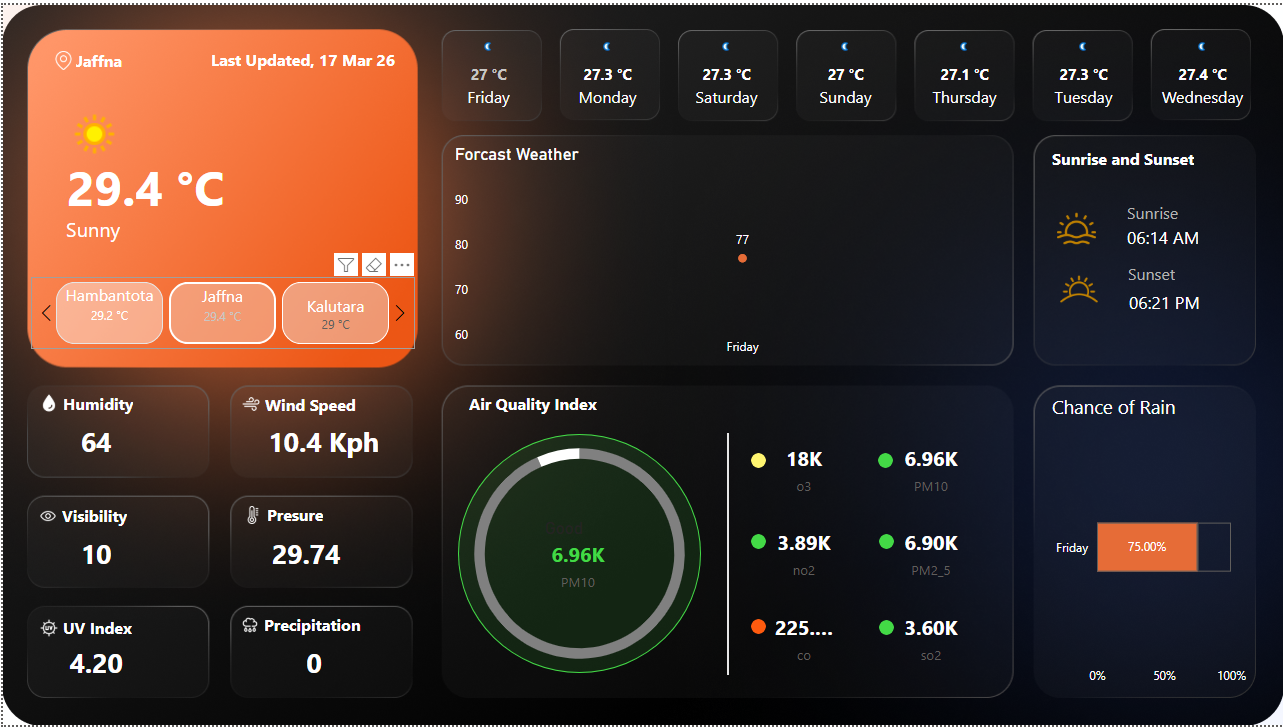

Layout of this report page (visuals, bound fields, positions):
{"tool":"powerbi","page":{"name":"Page 1","canvas":[1280,720],"ordinal":0},"visuals":[{"type":"image","box":[0,0,1280,720.1],"z":0},{"type":"shape","box":[455,429,243,239],"z":1000},{"type":"advancedSlicerVisual","fields":{"Values":["Current.location.name"],"Label":["_Measures.Curr_Temp"]},"box":[27.9,271.8,384.5,72],"z":2000},{"type":"shape","box":[64.4,132.2,193.3,97.8],"z":3000},{"type":"shape","box":[63.3,206.7,187.8,33.3],"z":4000},{"type":"shape","box":[73.3,38.9,144.4,33.3],"z":5000},{"type":"shape","box":[204.4,36.7,187.8,34.4],"z":6000},{"type":"image","box":[50.7,45,19.3,21.4],"z":7000},{"type":"cardVisual","fields":{"Data":["Min(Current.current.condition.icon)"]},"box":[0,5.6,183.3,175.6],"z":8000},{"type":"image","box":[36.9,388.1,18.1,19.4],"z":9000},{"type":"shape","box":[60,380.6,136.2,34.4],"z":10000},{"type":"image","box":[238.7,389,18.1,19.4],"z":11000},{"type":"shape","box":[261.8,381.5,136.2,34.4],"z":12000},{"type":"image","box":[36,500.9,18.1,19.4],"z":13000},{"type":"shape","box":[59.1,493.4,136.2,34.4],"z":14000},{"type":"image","box":[36.9,612.7,18.1,19.4],"z":15000},{"type":"shape","box":[60,605.2,136.2,34.4],"z":16000},{"type":"image","box":[240.5,499.9,18.1,19.4],"z":17000},{"type":"shape","box":[263.6,492.4,136.2,34.4],"z":18000},{"type":"image","box":[237.8,609.9,18.1,19.4],"z":19000},{"type":"shape","box":[260.9,602.4,136.2,34.4],"z":20000},{"type":"card","fields":{"Values":["Sum(Current.current.humidity)"]},"box":[37.5,408.8,110,57.5],"z":21000},{"type":"card","fields":{"Values":["_Measures.Wind_Speed"]},"box":[247.5,408.8,145,57.5],"z":22000},{"type":"card","fields":{"Values":["Sum(Current.current.vis_km)"]},"box":[37.5,521.2,110,57.5],"z":23000},{"type":"card","fields":{"Values":["Sum(Current.current.pressure_in)"]},"box":[247.5,521.2,110,57.5],"z":24000},{"type":"card","fields":{"Values":["Sum(Current.current.uv)"]},"box":[37.5,630,110,57.5],"z":25000},{"type":"card","fields":{"Values":["Sum(Current.current.precip_in)"]},"box":[256.2,630,110,57.5],"z":26000},{"type":"advancedSlicerVisual","fields":{"Values":["ForcastDay.DayName"]},"box":[405,21.7,875,98.3],"z":27000},{"type":"lineChart","title":"Forcast Weather","fields":{"Category":["ForcastDay.DayName"],"Y":["Sum(ForcastDay.forecast.forecastday.day.avghumidity)"]},"box":[447.1,138.6,561.4,221.4],"z":28000},{"type":"shape","box":[1048.6,135.7,198.6,34.3],"z":29000},{"type":"shape","box":[1124.2,218.3,142.5,25.8],"z":30000},{"type":"shape","box":[1124.2,187.5,155,38.3],"z":31000},{"type":"image","box":[1054.4,203.3,38.9,40],"z":32000},{"type":"image","box":[1051.1,257.8,50,52.2],"z":33000},{"type":"shape","box":[1125.6,283.3,142.2,26.7],"z":34000},{"type":"shape","box":[1125,248.6,155,38.3],"z":35000},{"type":"hundredPercentStackedBarChart","title":"Chance of Rain","fields":{"Y":["Sum(ForcastDay.forecast.forecastday.day.daily_chance_of_rain)","Current.LeftValueRain"],"Category":["ForcastDay.DayName"]},"box":[1043.8,388.8,203.8,300],"z":36000},{"type":"shape","box":[466.2,381.2,136.2,35],"z":37000},{"type":"card","fields":{"Values":["Sum(ColomboDistrict.current.air_quality.pm10)"]},"box":[890,426.2,76.2,73.8],"z":38000},{"type":"card","fields":{"Values":["Sum(ColomboDistrict.current.air_quality.pm2_5)"]},"box":[890,510,76.2,73.8],"z":39000},{"type":"card","fields":{"Values":["Sum(ColomboDistrict.current.air_quality.so2)"]},"box":[890,595,76.2,73.8],"z":40000},{"type":"card","fields":{"Values":["Sum(ColomboDistrict.current.air_quality.o3)"]},"box":[762.5,426.2,76.2,73.8],"z":41000},{"type":"card","fields":{"Values":["Sum(ColomboDistrict.current.air_quality.no2)"]},"box":[762.5,510,76.2,73.8],"z":42000},{"type":"card","fields":{"Values":["Sum(ColomboDistrict.current.air_quality.co)"]},"box":[762.5,595,76.2,73.8],"z":43000},{"type":"shape","box":[747.5,447.5,15,15],"z":44000},{"type":"shape","box":[875,447.5,15,15],"z":45000},{"type":"shape","box":[748.3,529.2,15,15],"z":46000},{"type":"shape","box":[875.8,529.2,15,15],"z":47000},{"type":"shape","box":[875.8,615,15,15],"z":48000},{"type":"shape","box":[747.5,614.2,15,15],"z":49000},{"type":"shape","box":[575,428.3,300,241.7],"z":50000},{"type":"card","fields":{"Values":["Sum(ColomboDistrict.current.air_quality.pm10)"]},"box":[536.7,513.3,76.7,73.3],"z":51000},{"type":"donutChart","fields":{"Y":["Sum(ColomboDistrict.current.air_quality.pm10)","_Measures.Left_PM10"]},"box":[440,411,273,275],"z":52000}]}

Visuals, with their boxes in screenshot pixels (x1, y1, x2, y2), scaled from the page's 1280x720 canvas onto the 1283x727 screenshot:
image: <bbox>0, 0, 1282, 726</bbox>
shape: <bbox>456, 433, 700, 674</bbox>
advancedSlicerVisual - Current.location.name x _Measures.Curr_Temp: <bbox>28, 274, 413, 347</bbox>
shape: <bbox>65, 133, 258, 232</bbox>
shape: <bbox>63, 209, 252, 242</bbox>
shape: <bbox>73, 39, 218, 73</bbox>
shape: <bbox>205, 37, 393, 72</bbox>
image: <bbox>51, 45, 70, 67</bbox>
cardVisual - Min(Current.current.condition.icon): <bbox>0, 6, 184, 183</bbox>
image: <bbox>37, 392, 55, 411</bbox>
shape: <bbox>60, 384, 197, 419</bbox>
image: <bbox>239, 393, 257, 412</bbox>
shape: <bbox>262, 385, 399, 420</bbox>
image: <bbox>36, 506, 54, 525</bbox>
shape: <bbox>59, 498, 196, 533</bbox>
image: <bbox>37, 619, 55, 638</bbox>
shape: <bbox>60, 611, 197, 646</bbox>
image: <bbox>241, 505, 259, 524</bbox>
shape: <bbox>264, 497, 401, 532</bbox>
image: <bbox>238, 616, 256, 635</bbox>
shape: <bbox>262, 608, 398, 643</bbox>
card - Sum(Current.current.humidity): <bbox>38, 413, 148, 471</bbox>
card - _Measures.Wind_Speed: <bbox>248, 413, 393, 471</bbox>
card - Sum(Current.current.vis_km): <bbox>38, 526, 148, 584</bbox>
card - Sum(Current.current.pressure_in): <bbox>248, 526, 358, 584</bbox>
card - Sum(Current.current.uv): <bbox>38, 636, 148, 694</bbox>
card - Sum(Current.current.precip_in): <bbox>257, 636, 367, 694</bbox>
advancedSlicerVisual - ForcastDay.DayName: <bbox>406, 22, 1282, 121</bbox>
"Forcast Weather" lineChart: <bbox>448, 140, 1011, 364</bbox>
shape: <bbox>1051, 137, 1250, 172</bbox>
shape: <bbox>1127, 220, 1270, 246</bbox>
shape: <bbox>1127, 189, 1282, 228</bbox>
image: <bbox>1057, 205, 1096, 246</bbox>
image: <bbox>1054, 260, 1104, 313</bbox>
shape: <bbox>1128, 286, 1271, 313</bbox>
shape: <bbox>1128, 251, 1282, 290</bbox>
"Chance of Rain" hundredPercentStackedBarChart: <bbox>1046, 393, 1251, 695</bbox>
shape: <bbox>467, 385, 604, 420</bbox>
card - Sum(ColomboDistrict.current.air_quality.pm10): <bbox>892, 430, 968, 505</bbox>
card - Sum(ColomboDistrict.current.air_quality.pm2_5): <bbox>892, 515, 968, 589</bbox>
card - Sum(ColomboDistrict.current.air_quality.so2): <bbox>892, 601, 968, 675</bbox>
card - Sum(ColomboDistrict.current.air_quality.o3): <bbox>764, 430, 841, 505</bbox>
card - Sum(ColomboDistrict.current.air_quality.no2): <bbox>764, 515, 841, 589</bbox>
card - Sum(ColomboDistrict.current.air_quality.co): <bbox>764, 601, 841, 675</bbox>
shape: <bbox>749, 452, 764, 467</bbox>
shape: <bbox>877, 452, 892, 467</bbox>
shape: <bbox>750, 534, 765, 549</bbox>
shape: <bbox>878, 534, 893, 549</bbox>
shape: <bbox>878, 621, 893, 636</bbox>
shape: <bbox>749, 620, 764, 635</bbox>
shape: <bbox>576, 432, 877, 677</bbox>
card - Sum(ColomboDistrict.current.air_quality.pm10): <bbox>538, 518, 615, 592</bbox>
donutChart - Sum(ColomboDistrict.current.air_quality.pm10) x _Measures.Left_PM10: <bbox>441, 415, 715, 693</bbox>
